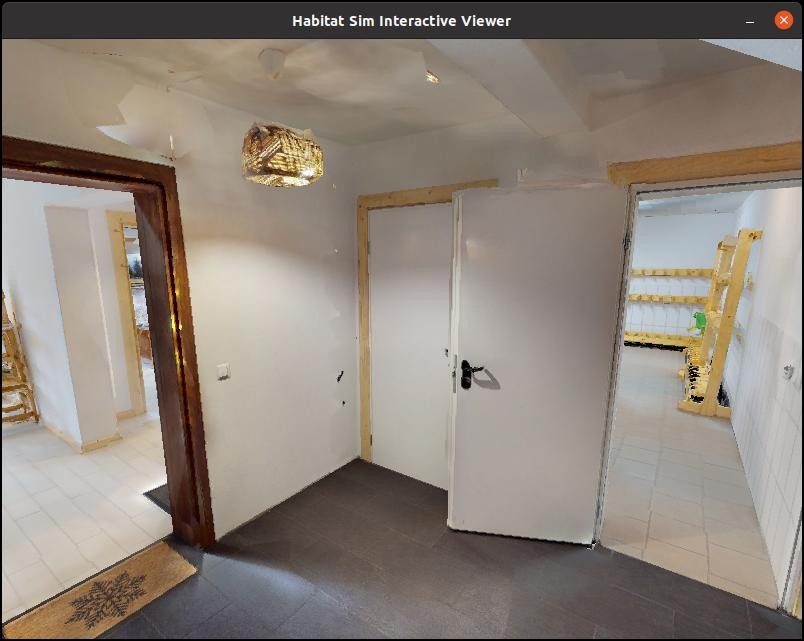door: (453, 186, 616, 554), (362, 205, 463, 487)
door-frame: (0, 141, 225, 634), (606, 154, 804, 624)
